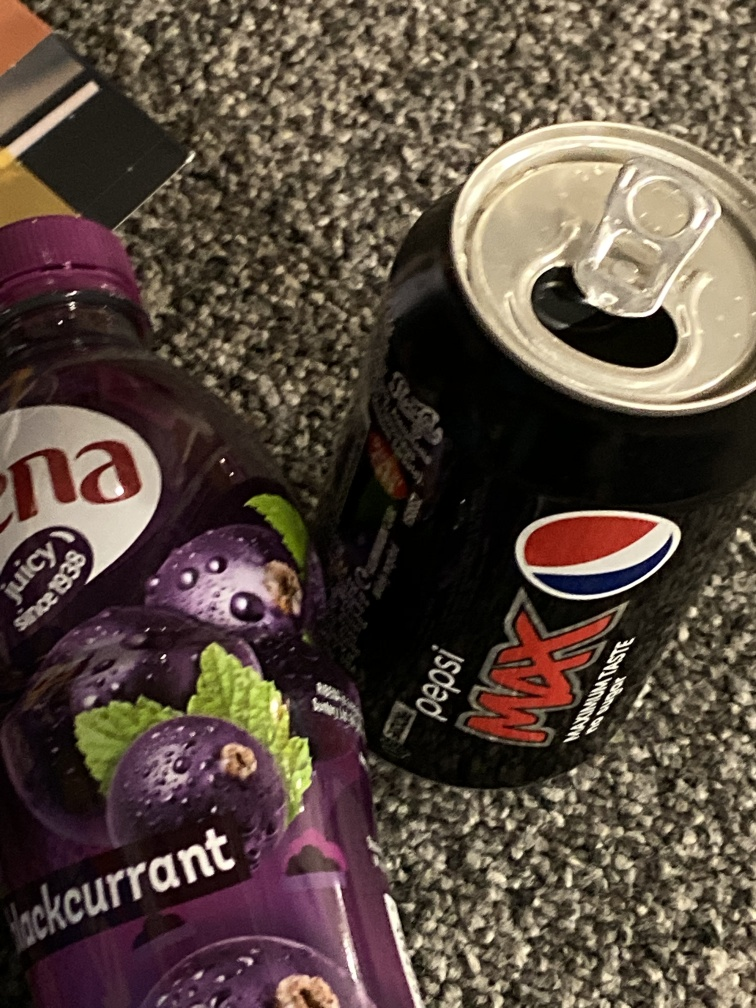bottle_purple: (1, 209, 435, 1008)
can_black: (309, 119, 756, 797)
